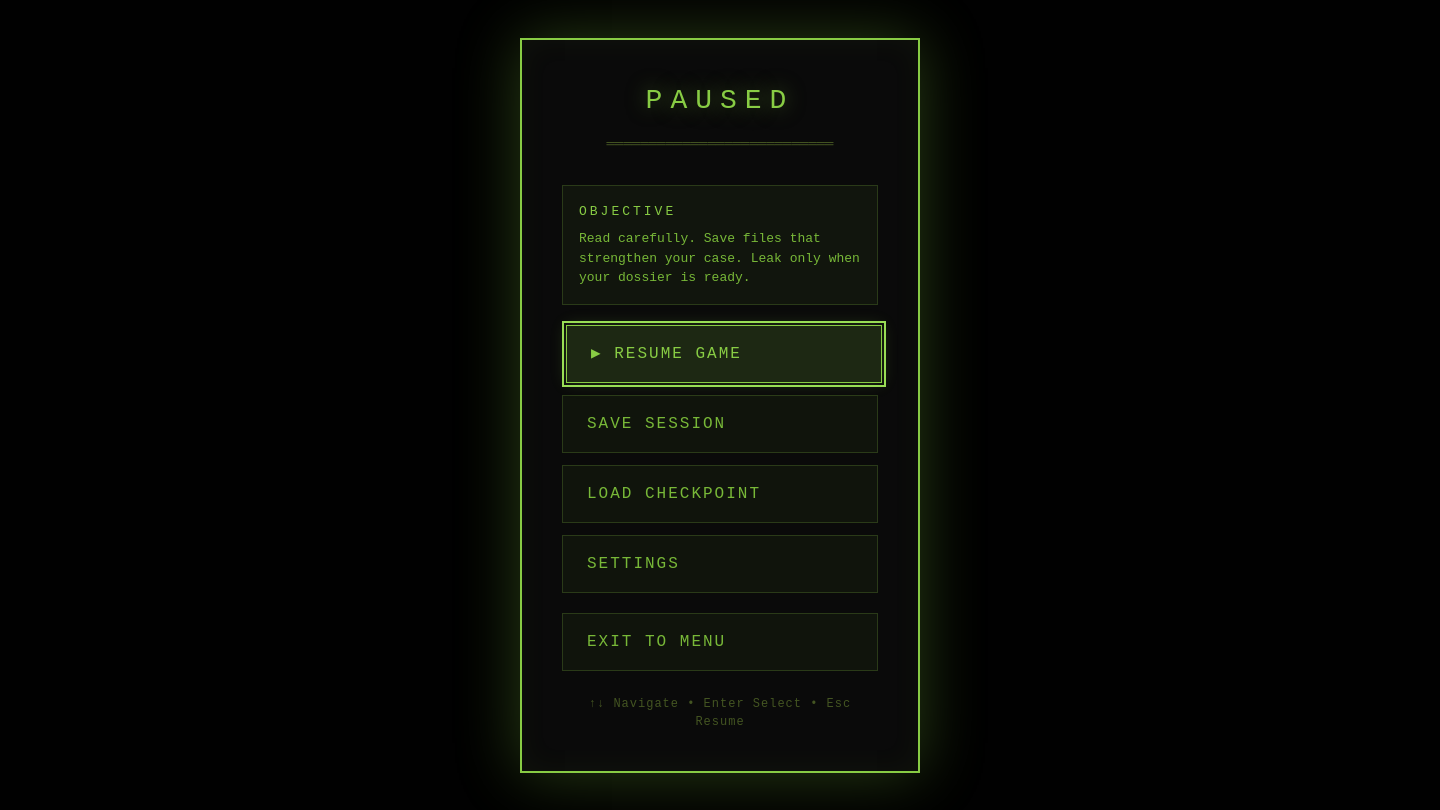
Test: PauseMenu › Main Pause Menu › shows load confirmation when clicking LOAD
Click the button "LOAD CHECKPOINT" at (720, 494), box [562,464,878,522]
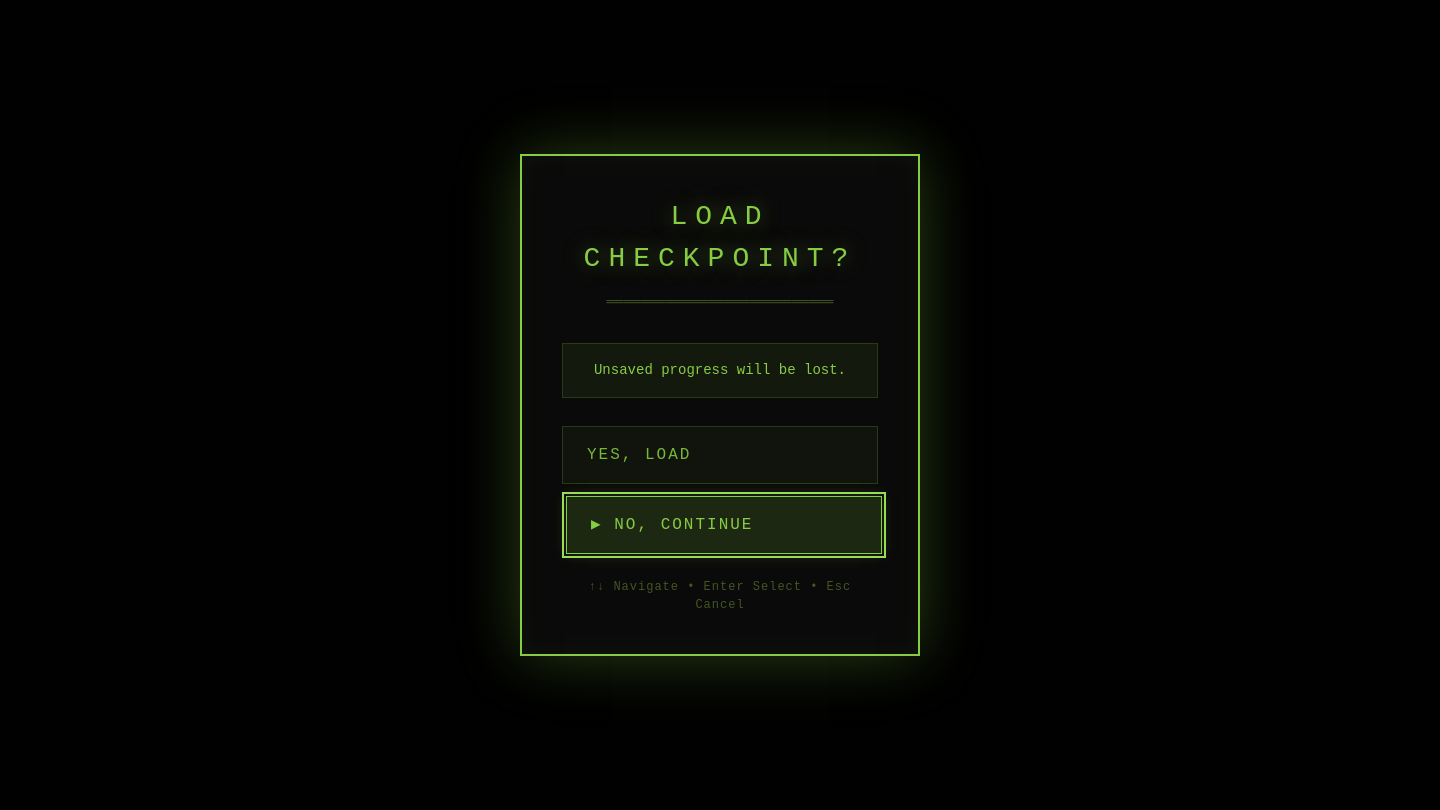
Now the heading "LOAD CHECKPOINT?" is shown, box [562,196,878,280]
Now the text "Unsaved progress will be lost." is shown, box [562,343,878,398]
